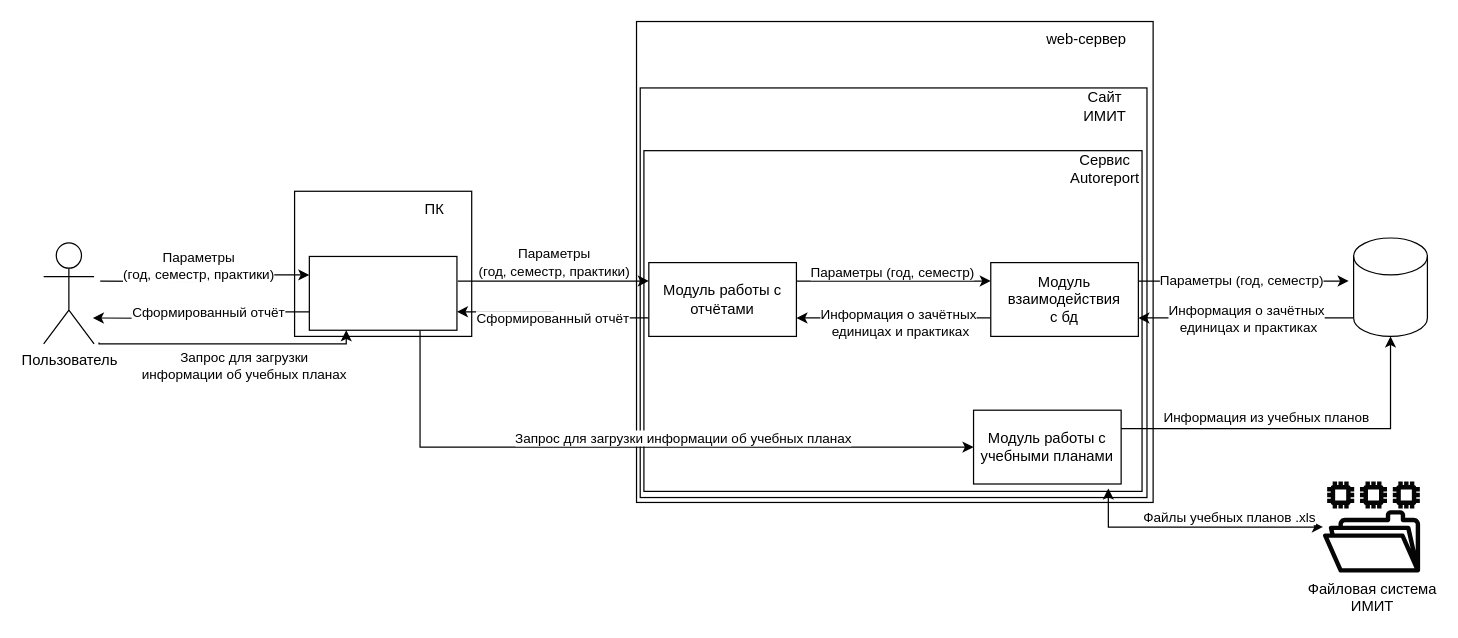
This 1458x638 diagram has some shape labels left out. Each missing label, with the box of its shape:
web-браузер: (308, 255, 457, 330)
бд: (1352, 237, 1427, 336)
